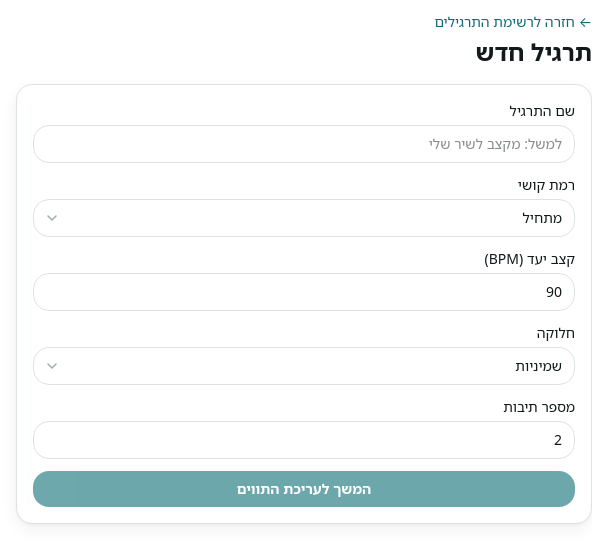
Test: ExerciseBuilderPage › keeps the continue button disabled until a title is entered
The image size is (604, 543).
Expected: the button "המשך לעריכת התווים" is disabled, [33,471,575,507]
In the field labelled "שם התרגיל": [304, 144] box [33,125,575,163], type "התרגיל שלי"
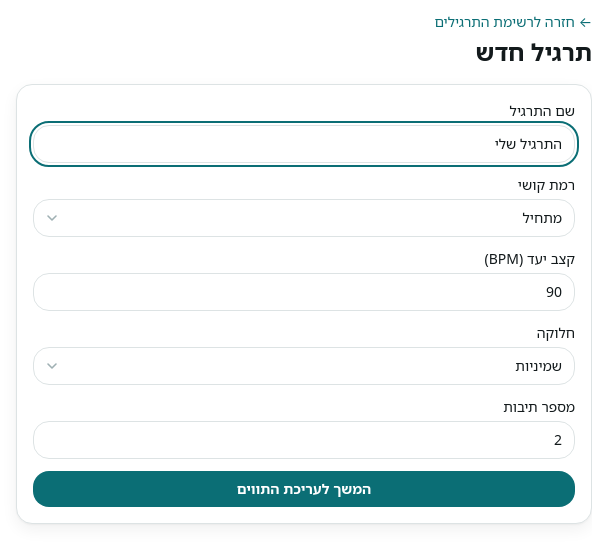
Result: the button "המשך לעריכת התווים" is enabled at [33,471,575,507]
